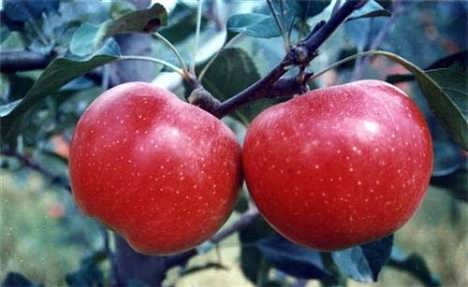apple: (241, 79, 433, 251), (68, 81, 242, 256)
